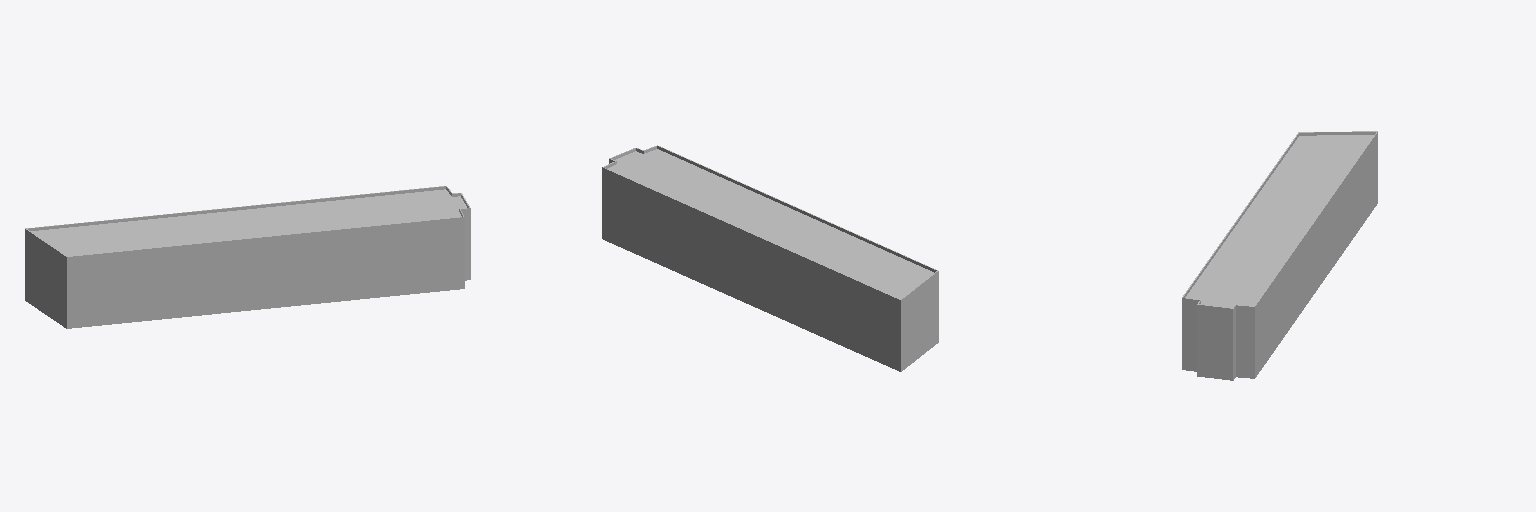
Rendered from multifamily_2.obj.
The picture shows the model from 3 angles: view 1: azimuth 30°, elevation 25°; view 2: azimuth 150°, elevation 25°; view 3: azimuth 270°, elevation 25°; orthographic projection.
Visible parts, largest first — view 1: object_1; view 2: object_1; view 3: object_1.
Boxes of the visible parts, <box> form: object_1: <box>25,186,470,328</box>; object_1: <box>602,145,938,371</box>; object_1: <box>1182,131,1377,380</box>.
Size of the model in its own units: 376 by 71 by 176.